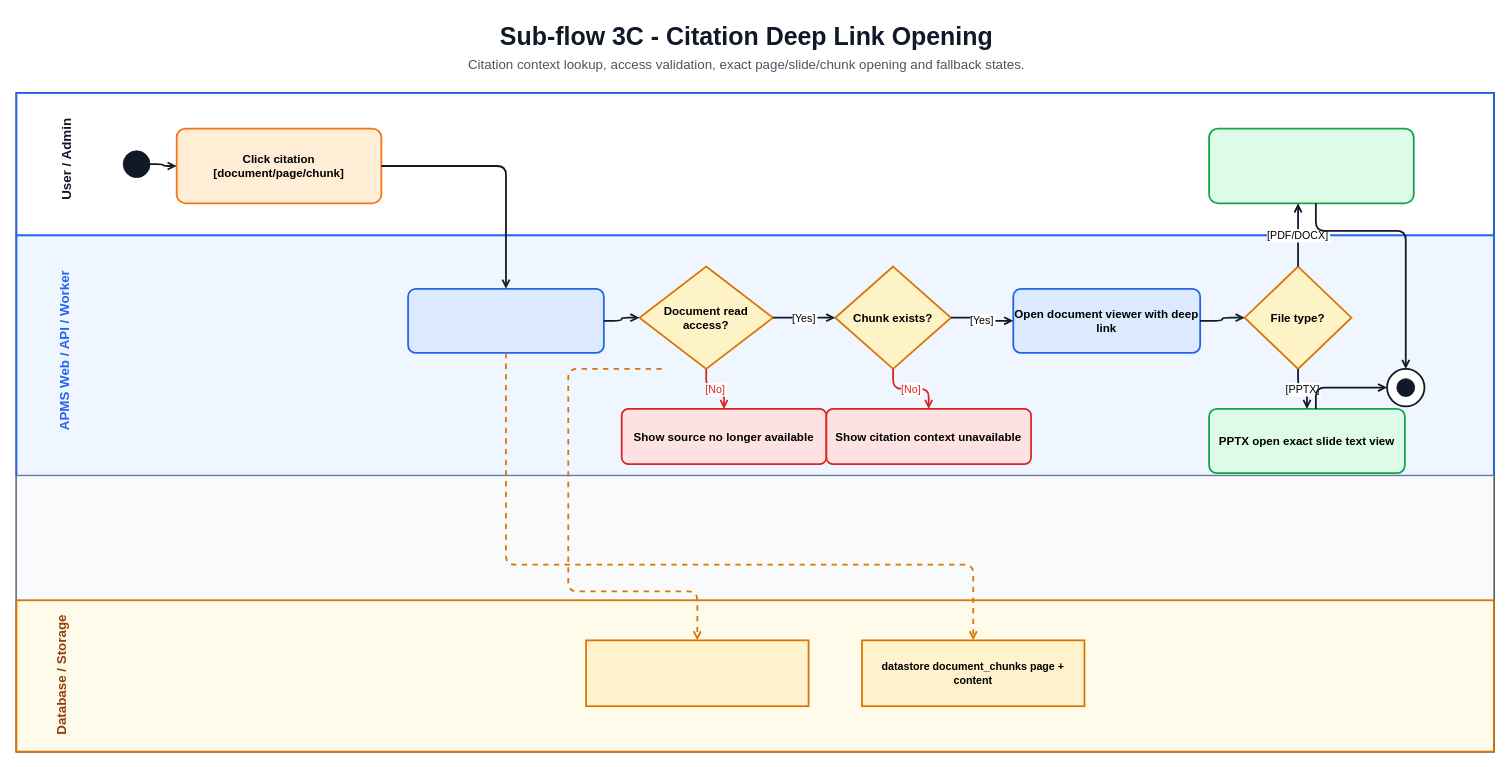
This 1509x767 diagram has some shape labels left out. The shapes that lost their labels are listed below. From the top down, each one's box as (x1, y1, x2, y2) in pixels, then its label:
(1208, 127, 1414, 204): PDF/DOCX jump and highlight best-effort
(407, 287, 604, 353): Request citation context by chunkIndex
(16, 475, 1494, 600): External Services
(585, 639, 809, 707): datastore documents access + metadata
